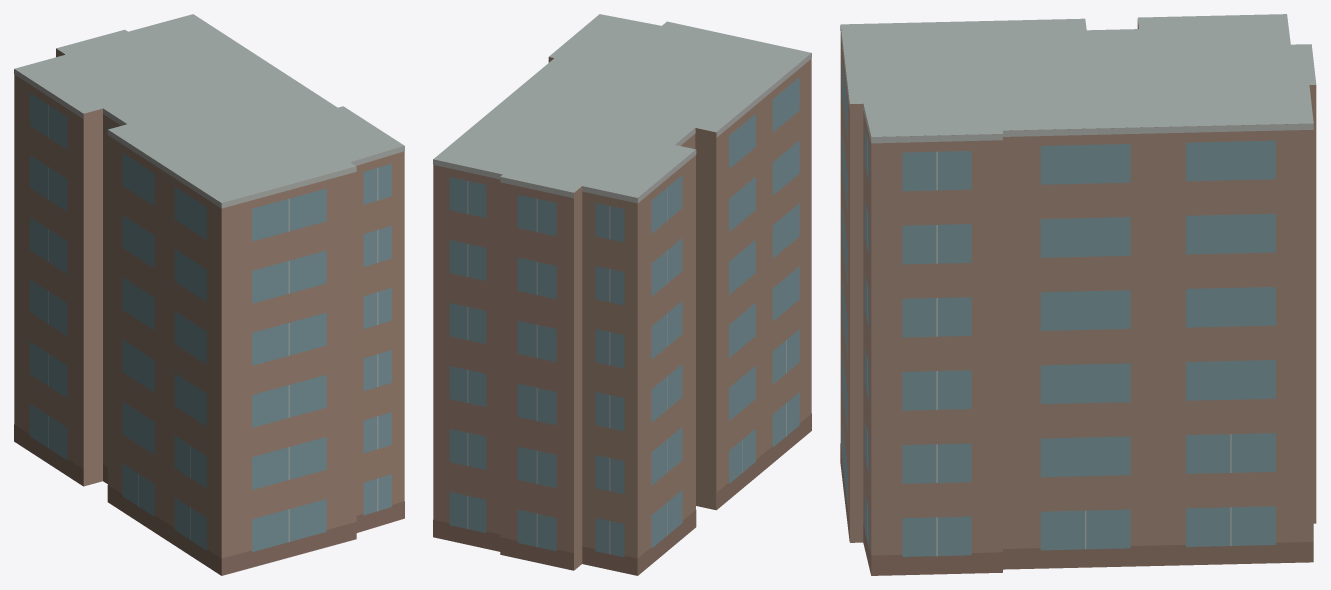
Rendered from survey-upis-32526758.glb.
The picture shows the model from 3 angles, left to right: view 1: azimuth 30°, elevation 25°; view 2: azimuth 150°, elevation 25°; view 3: azimuth 270°, elevation 25°; orthographic projection. The views are drawn at different scales.
Parts seen in each view (by area): view 1: survey-upis-32526758.tmp; view 2: survey-upis-32526758.tmp; view 3: survey-upis-32526758.tmp.
Boxes of the visible parts, <box> form: survey-upis-32526758.tmp: <box>14,14,404,575</box>; survey-upis-32526758.tmp: <box>433,14,811,575</box>; survey-upis-32526758.tmp: <box>840,14,1316,575</box>.
Bounding box in the file's own units: 10.11 × 16.8 × 16.52.
